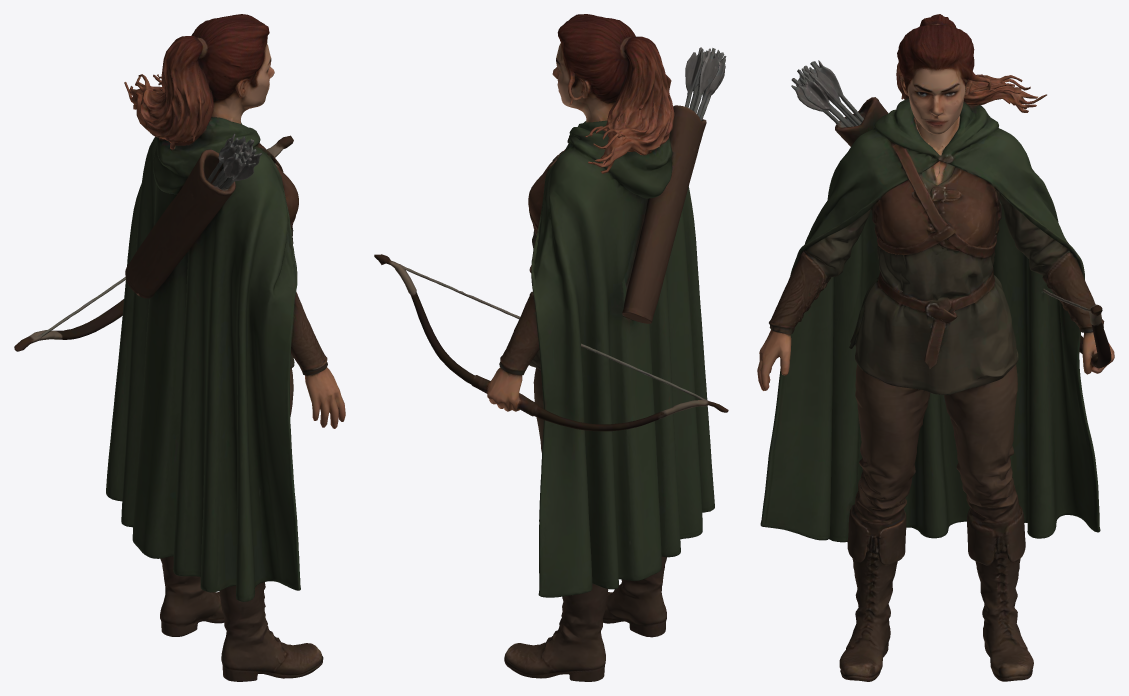
File: ranger-original.glb
3 views of the same model, side by side, from view 1: azimuth 30°, elevation 25°; view 2: azimuth 150°, elevation 25°; view 3: azimuth 270°, elevation 25° (orthographic).
Parts seen in each view (by area): view 1: tripo_node_d143b25c-c5aa-42b8-8d28-1c0d0f49a013; view 2: tripo_node_d143b25c-c5aa-42b8-8d28-1c0d0f49a013; view 3: tripo_node_d143b25c-c5aa-42b8-8d28-1c0d0f49a013.
Boxes of the visible parts, box(x1,y1,x2,y2) form: tripo_node_d143b25c-c5aa-42b8-8d28-1c0d0f49a013: box(14, 14, 345, 681); tripo_node_d143b25c-c5aa-42b8-8d28-1c0d0f49a013: box(374, 14, 728, 681); tripo_node_d143b25c-c5aa-42b8-8d28-1c0d0f49a013: box(757, 14, 1114, 681).
Size of the model in its own units: 0.5245 by 1 by 0.5115.
Materials: 1 (1 with a texture image).
